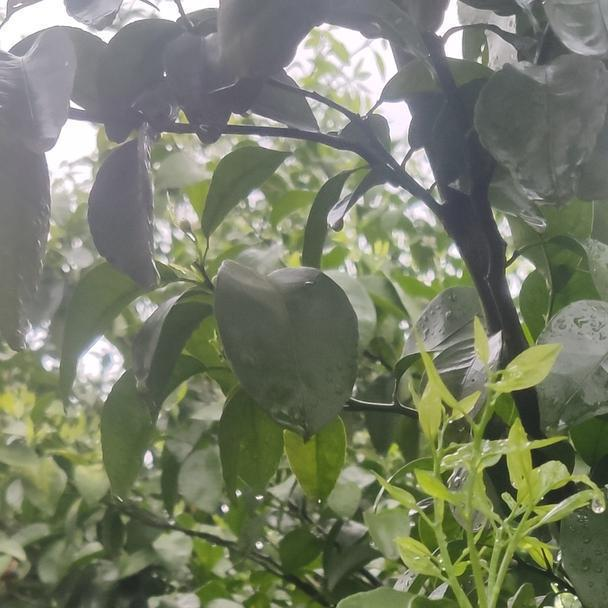shoot: (430, 345, 552, 545), (384, 392, 481, 593), (480, 447, 600, 587)
